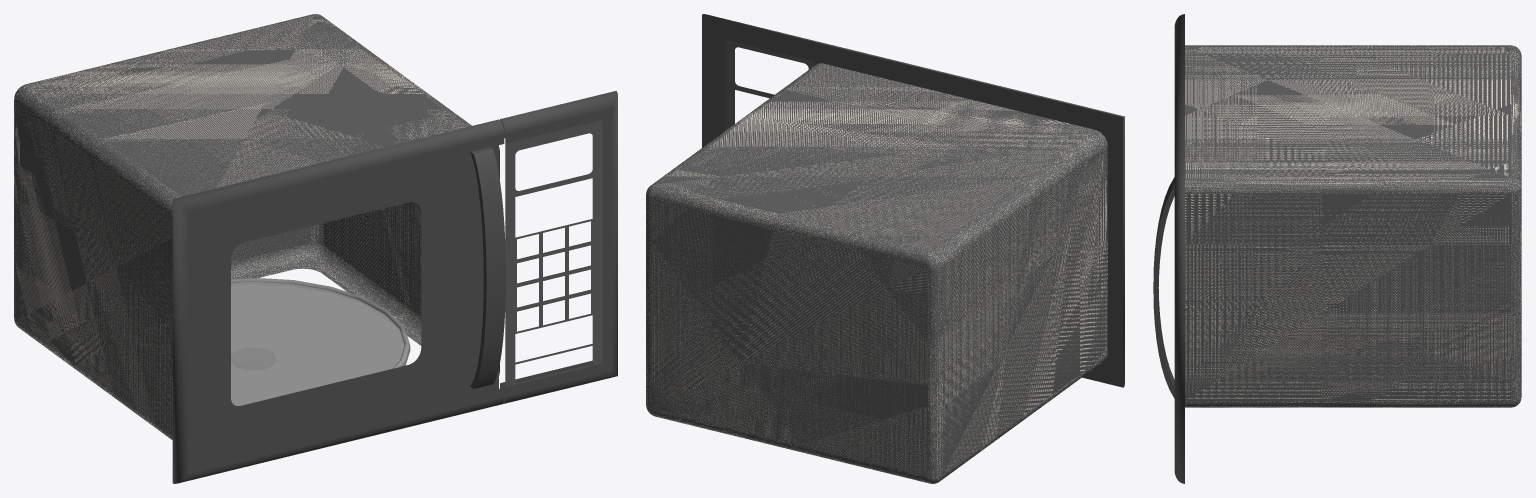
Rendered from microondas.obj.
The picture shows the model from 3 angles, left to right: view 1: azimuth 30°, elevation 25°; view 2: azimuth 150°, elevation 25°; view 3: azimuth 270°, elevation 25°; orthographic projection. The views are drawn at different scales.
Visible parts, largest first — view 1: group_6.003_ID276, group_3.006_ID223, group_4.001_ID262, group_2.020_ID80, group_1.002_ID210, group_0_ID4; view 2: group_6.003_ID276, group_3.006_ID223, group_1.002_ID210, group_2.020_ID80; view 3: group_6.003_ID276, group_1.002_ID210, group_3.006_ID223, group_0_ID4.
Part boxes in pixels (x1,y1,x2,y2): group_6.003_ID276: (14,14,499,439); group_3.006_ID223: (172,119,504,483); group_4.001_ID262: (231,278,410,405); group_2.020_ID80: (505,120,602,387); group_1.002_ID210: (500,91,617,404); group_0_ID4: (470,147,505,388); group_6.003_ID276: (646,63,1107,483); group_3.006_ID223: (813,41,1124,387); group_1.002_ID210: (702,14,815,147); group_2.020_ID80: (725,40,813,130); group_6.003_ID276: (1185,45,1521,407); group_1.002_ID210: (1174,164,1184,483); group_3.006_ID223: (1174,14,1184,170); group_0_ID4: (1153,177,1174,398).
Size of the model in its own units: 0.5805 by 0.3556 by 0.4445.
